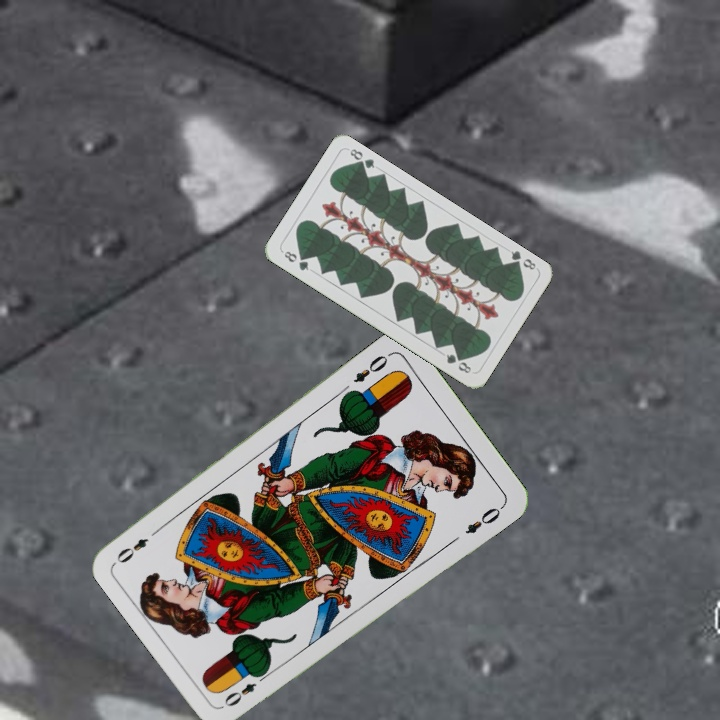EO: (220, 667, 271, 710), (349, 351, 391, 386)
G8: (280, 247, 311, 273), (506, 247, 538, 272)
